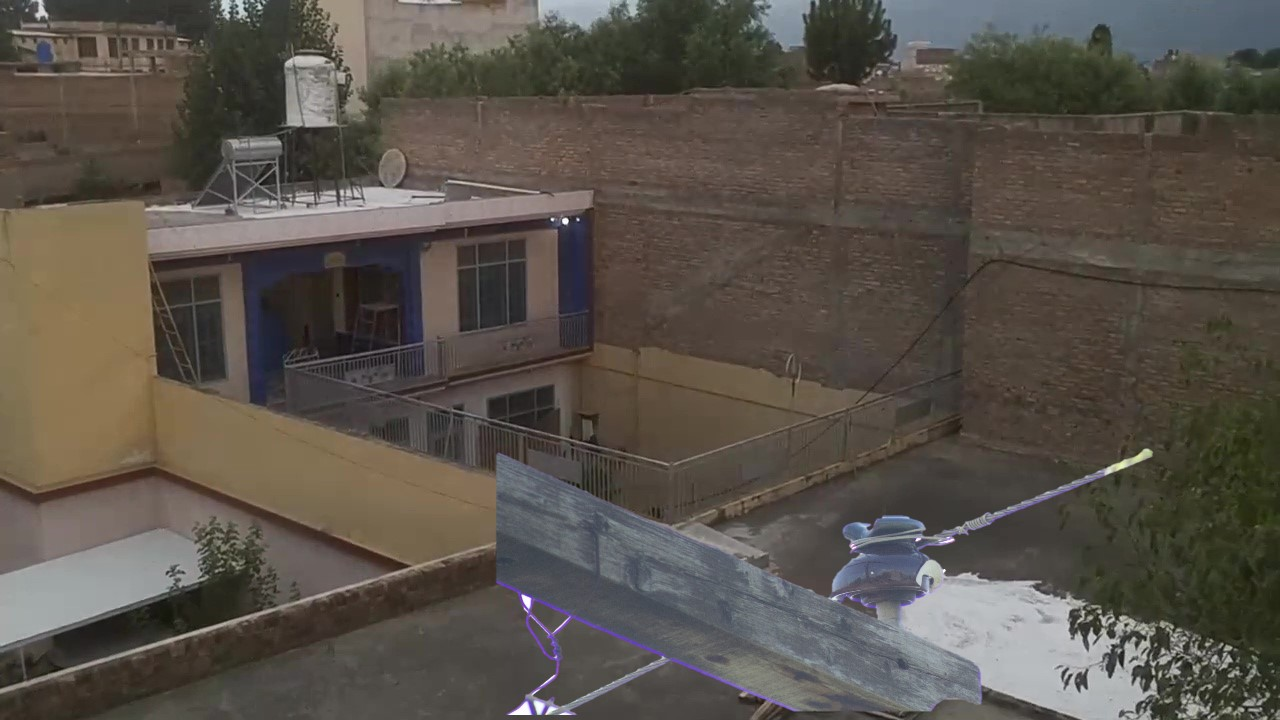defect_pin: (825, 505, 952, 622)
